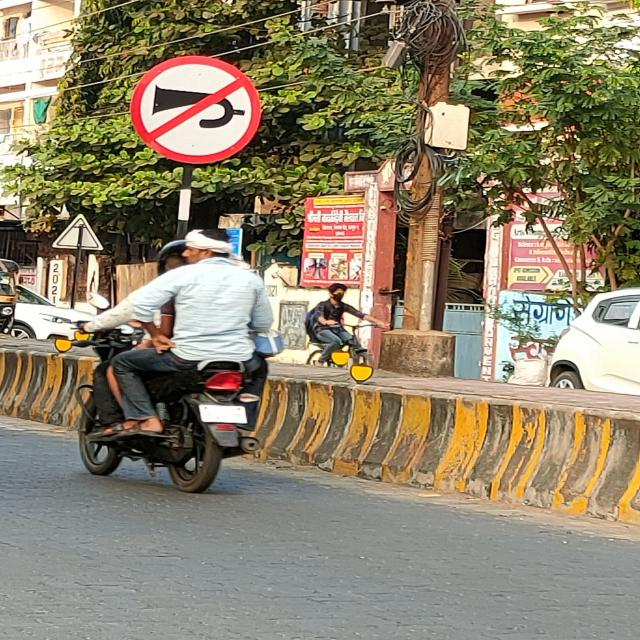HORN_PROHIBITED: (130, 56, 262, 162)
